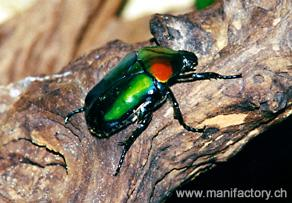Protaetia_speciosa_jousseliniw: (62, 41, 243, 178)
